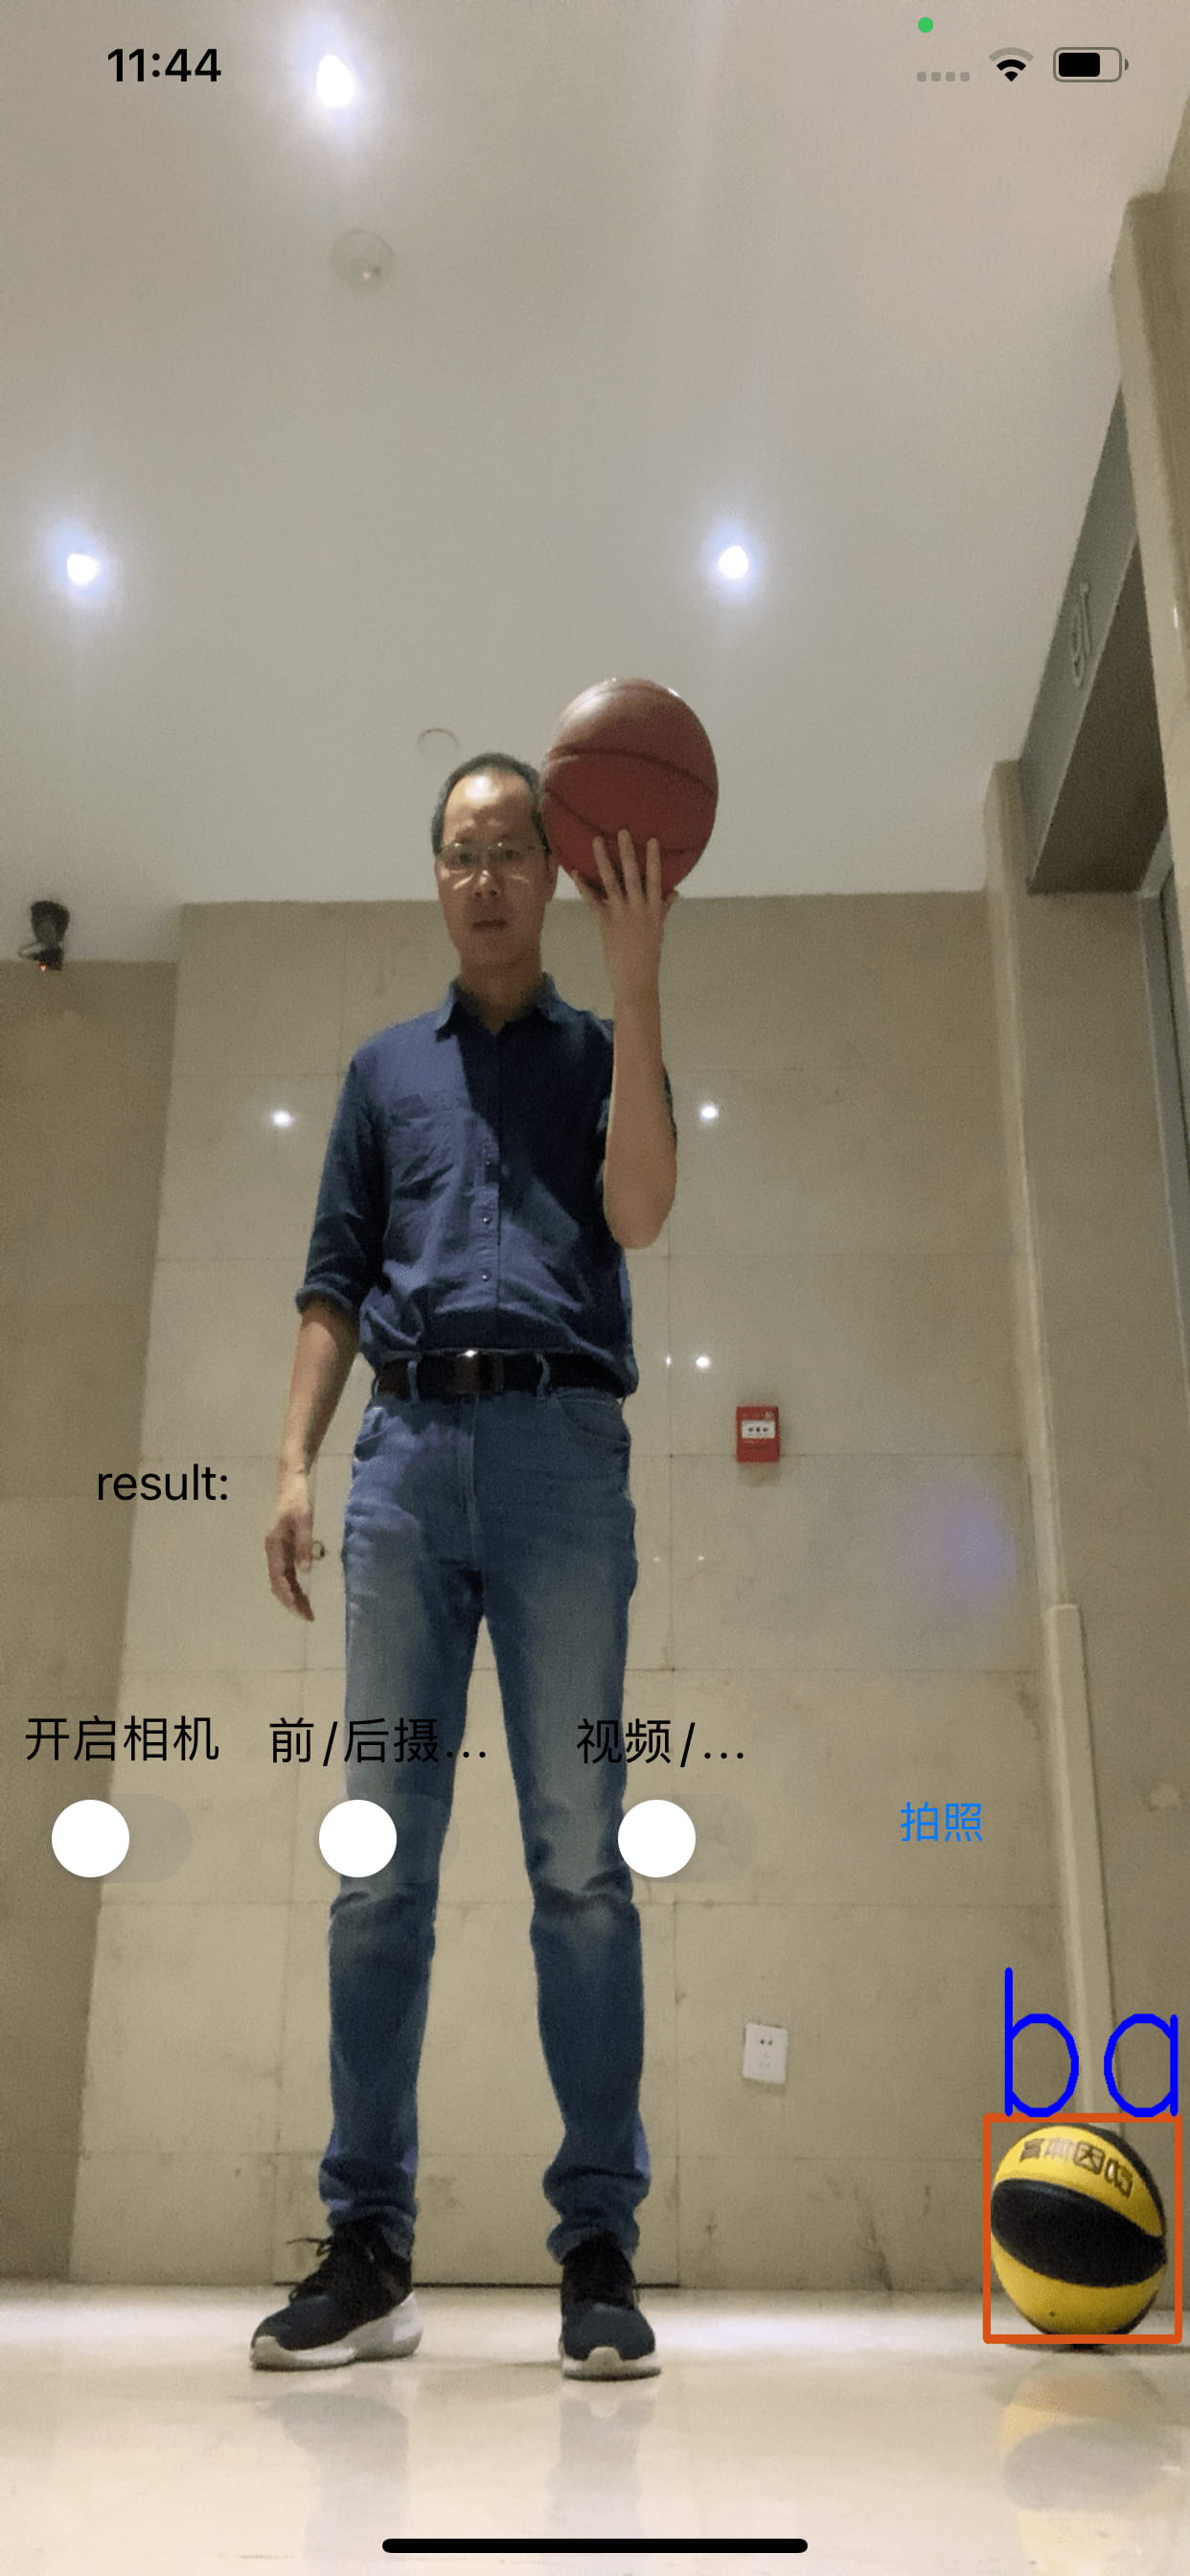ball: (533, 677, 718, 904), (994, 2126, 1172, 2331)
